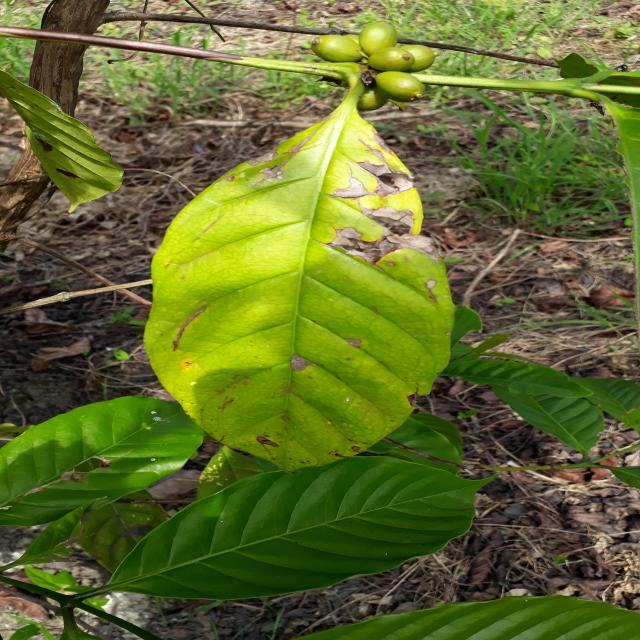Enfermedad-Roya: (142, 20, 459, 472)
